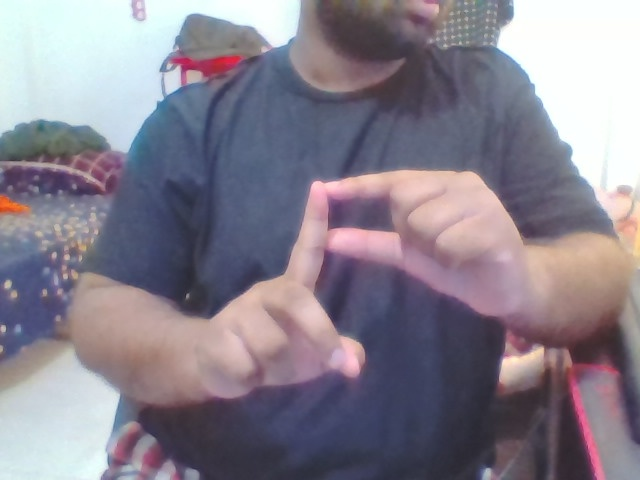P: (205, 159, 524, 408)
